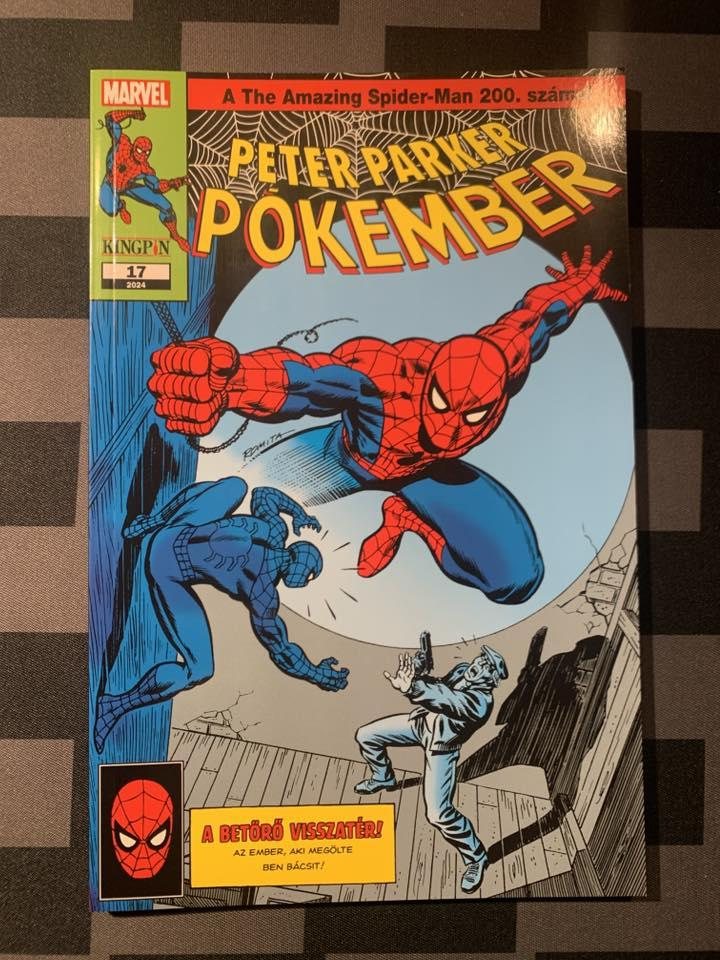comic: (86, 68, 644, 909)
